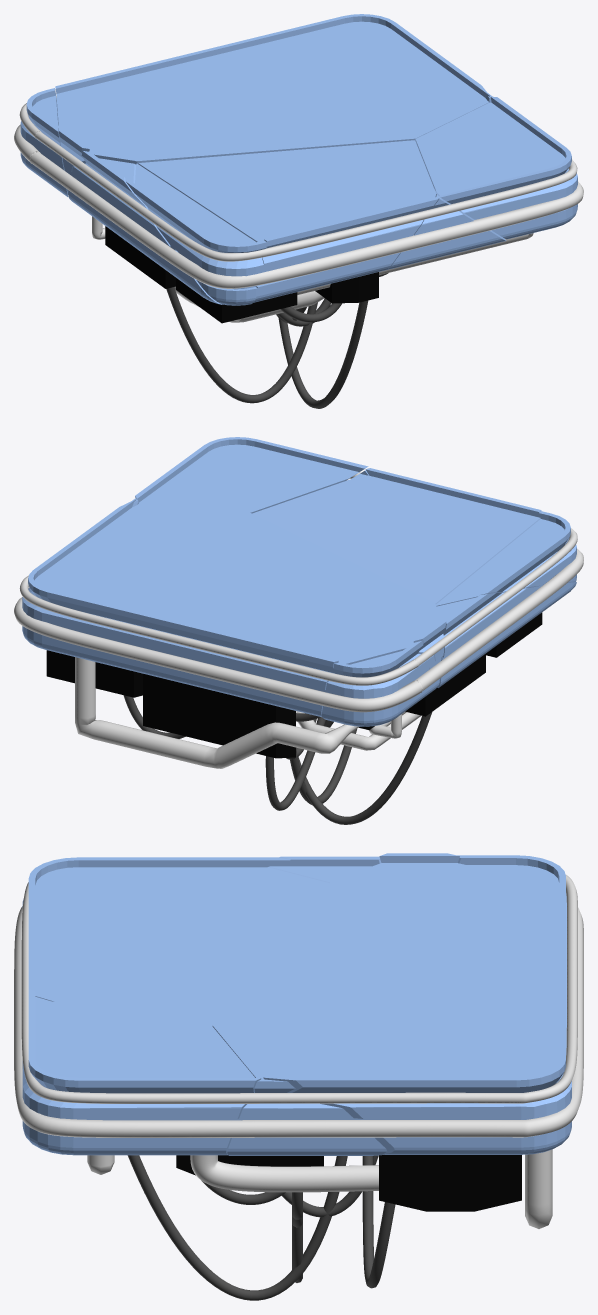
File: Broken Platform.fbx
3 renders of one model, top to bottom at view 1: azimuth 30°, elevation 25°; view 2: azimuth 150°, elevation 25°; view 3: azimuth 270°, elevation 25°, orthographic. The views are drawn at different scales.
Visible parts, largest first — view 1: Plane.003_cell.004, Plane.003_cell.008, NurbsPath.005, Plane.003_cell.001, Plane.003_cell.002, NurbsPath.003, Cube.002, Plane.003_cell, Plane.003_cell.003, Plane.003_cell.006, NurbsPath.004; view 2: Plane.003_cell.004, Plane.003_cell.008, NurbsPath.005, Cube.002, Plane.003_cell.001, NurbsPath.004, Plane.003_cell.002, NurbsPath.003, Plane.003_cell.006, Plane.003_cell; view 3: Plane.003_cell.004, Plane.003_cell.008, Plane.003_cell.001, NurbsPath.005, Cube.002, NurbsPath.003, Plane.003_cell.002, NurbsPath.004, Plane.003_cell.005, Plane.003_cell.006, Plane.003_cell.
Part boxes in pixels (<box>): Plane.003_cell.004: <box>55,14,489,194</box>; Plane.003_cell.008: <box>138,140,438,302</box>; NurbsPath.005: <box>14,93,583,288</box>; Plane.003_cell.001: <box>415,96,577,239</box>; Plane.003_cell.002: <box>125,163,266,305</box>; NurbsPath.003: <box>166,273,388,408</box>; Cube.002: <box>105,226,378,323</box>; Plane.003_cell: <box>68,151,222,304</box>; Plane.003_cell.003: <box>387,189,506,269</box>; Plane.003_cell.006: <box>20,88,67,196</box>; NurbsPath.004: <box>92,216,533,322</box>; Plane.003_cell.004: <box>22,499,446,717</box>; Plane.003_cell.008: <box>252,468,541,606</box>; NurbsPath.005: <box>14,472,583,712</box>; Cube.002: <box>46,612,542,758</box>; Plane.003_cell.001: <box>135,437,368,513</box>; NurbsPath.004: <box>75,657,420,768</box>; Plane.003_cell.002: <box>436,511,576,605</box>; NurbsPath.003: <box>123,695,432,824</box>; Plane.003_cell.006: <box>322,640,439,726</box>; Plane.003_cell: <box>437,582,576,687</box>; Plane.003_cell.004: <box>212,853,571,1154</box>; Plane.003_cell.008: <box>22,883,328,1025</box>; Plane.003_cell.001: <box>22,989,261,1155</box>; NurbsPath.005: <box>14,875,583,1137</box>; Cube.002: <box>176,1155,521,1211</box>; NurbsPath.003: <box>127,1155,395,1300</box>; Plane.003_cell.002: <box>22,857,328,904</box>; NurbsPath.004: <box>87,1149,552,1228</box>; Plane.003_cell.005: <box>227,1079,386,1155</box>; Plane.003_cell.006: <box>457,855,566,902</box>; Plane.003_cell: <box>268,856,381,883</box>.
Size of the model in its own units: 210 by 135 by 208.
